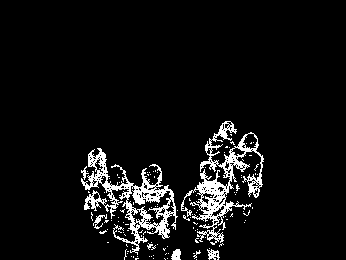person: (191, 160, 228, 260), (140, 163, 176, 260), (79, 144, 113, 245), (236, 130, 264, 232), (108, 166, 138, 260), (204, 117, 232, 193)
